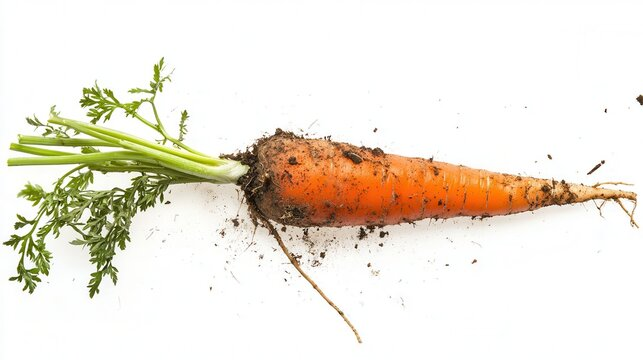carrot: (9, 70, 642, 334)
